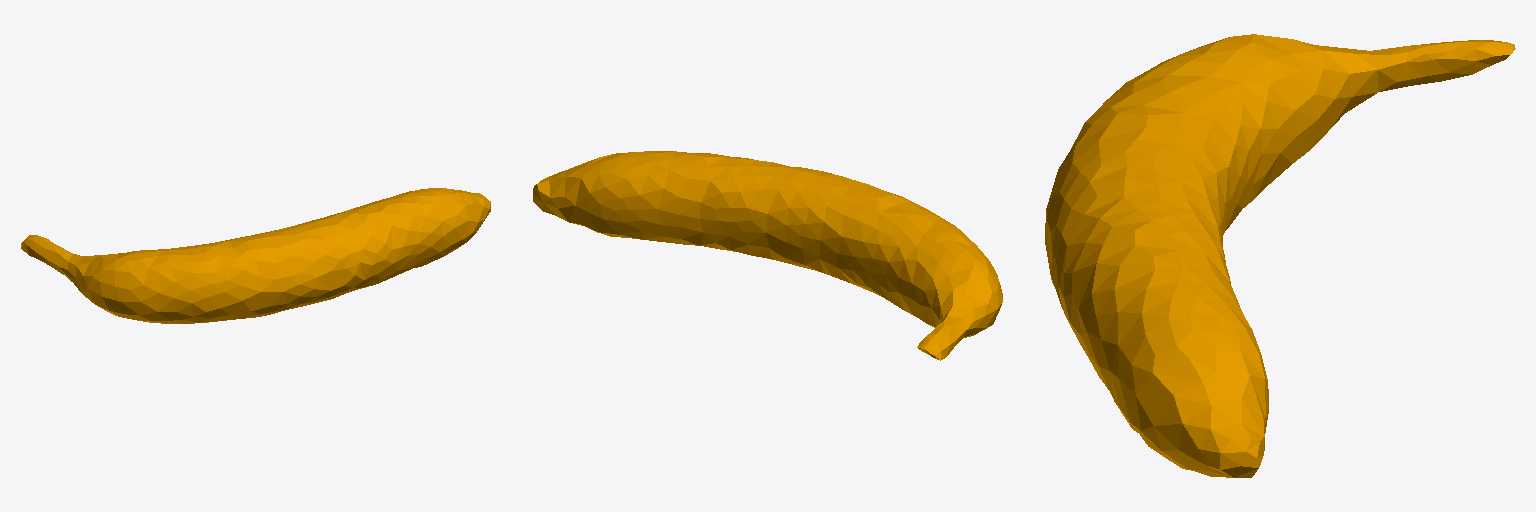
The robot description file, URDF, robot "bullet_banana":
<robot name="bullet_banana">
  <link name="base">
    <visual><geometry><mesh filename="bullet_banana.normalized.obj"/></geometry></visual>
    <collision><geometry><mesh filename="bullet_banana.collision_box.obj"/></geometry></collision>
  </link>
</robot>

--- What the picture shows (computed from the rendered views, not written in the file) ---
Views: 3 orthographic renders of the robot side by side, from view 1: azimuth 30°, elevation 25°; view 2: azimuth 150°, elevation 25°; view 3: azimuth 270°, elevation 25°.
Robot: bullet_banana — 1 links, 0 joints (none); root link base; default pose: every joint at zero.
Links seen in each view (by area): view 1: base; view 2: base; view 3: base.
Boxes of the visible links, x1,y1,x2,y2 form: base: (21,188,490,323); base: (533,151,1002,360); base: (1045,34,1515,477).
Bounding box of the posed robot: 1 × 0.4963 × 0.173 m (x, y, z).
1 mesh visuals loaded from 1 distinct referenced files (1 OBJ).
